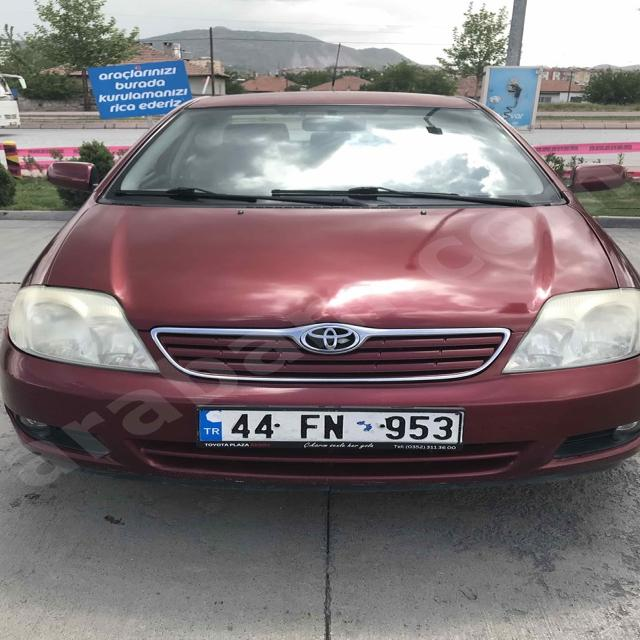license_plate: (196, 408, 461, 444)
